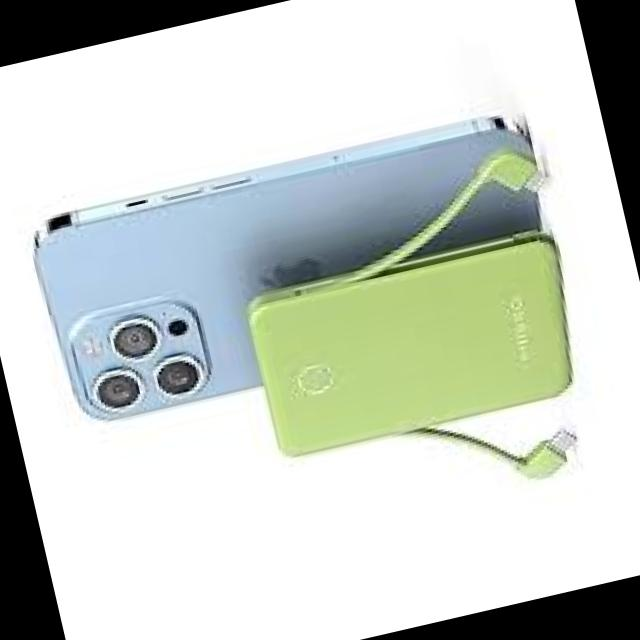power_bank: (243, 220, 592, 459)
